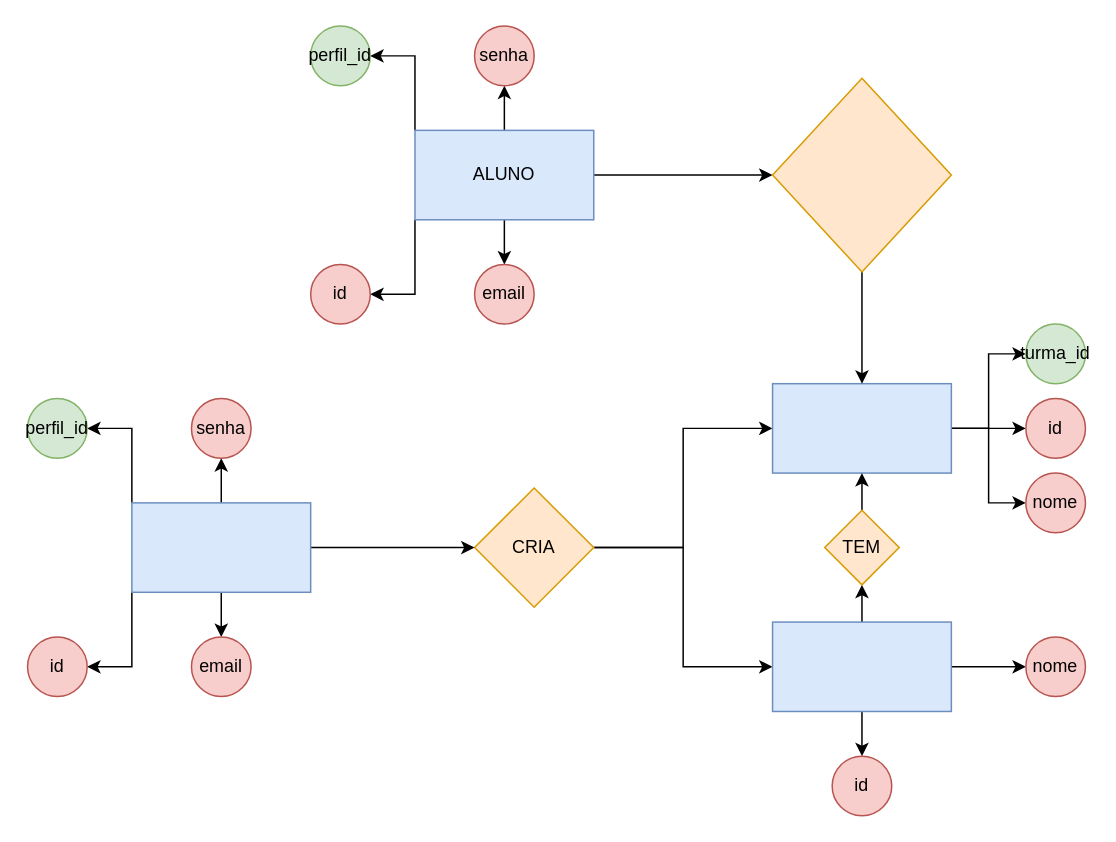
Some shapes in this 1116 by 842 pixel diagram are drawn without their labels. The centre of each missing label's shape, as x and y in pixels:
ATIVIDADE: [861,427]
PROFESSOR: [220,546]
TURMA: [861,666]
VISUALIZA TURMA/ATIVIDADE: [861,174]
